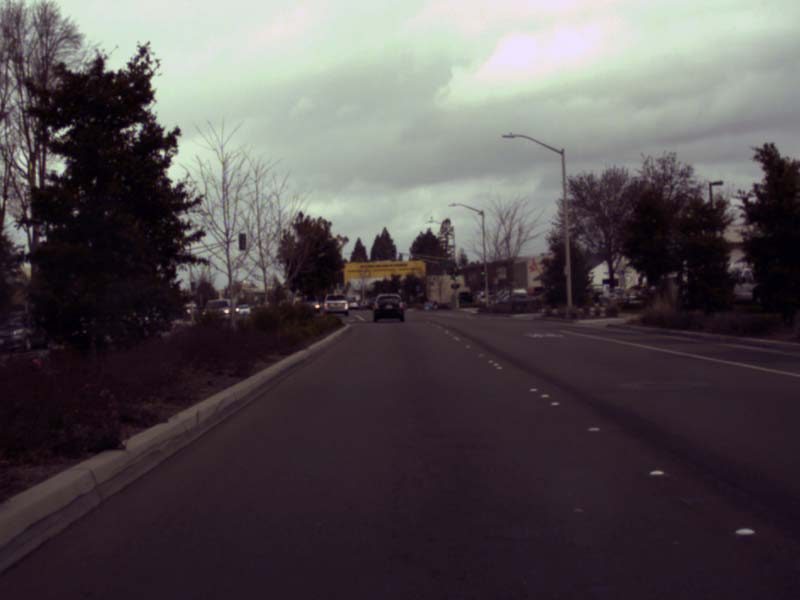Green: (391, 249, 395, 260), (480, 266, 483, 274), (454, 271, 457, 279)
